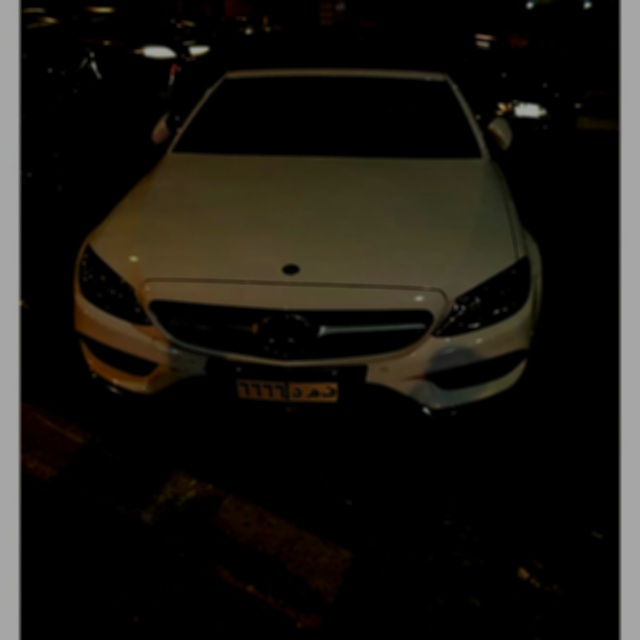License Plate: (230, 362, 343, 406)
